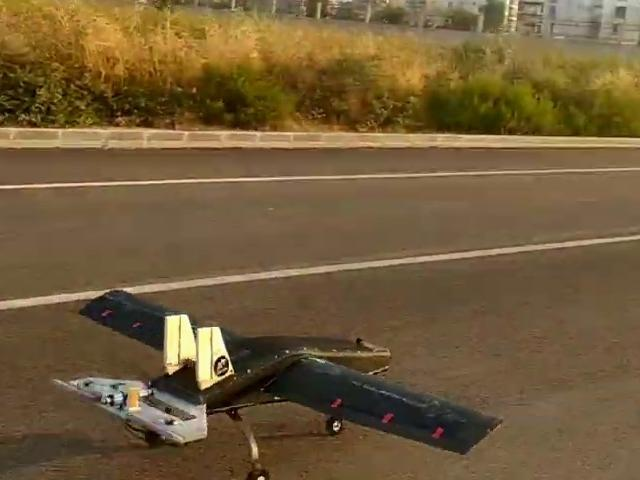Airplane: (41, 251, 510, 472)
